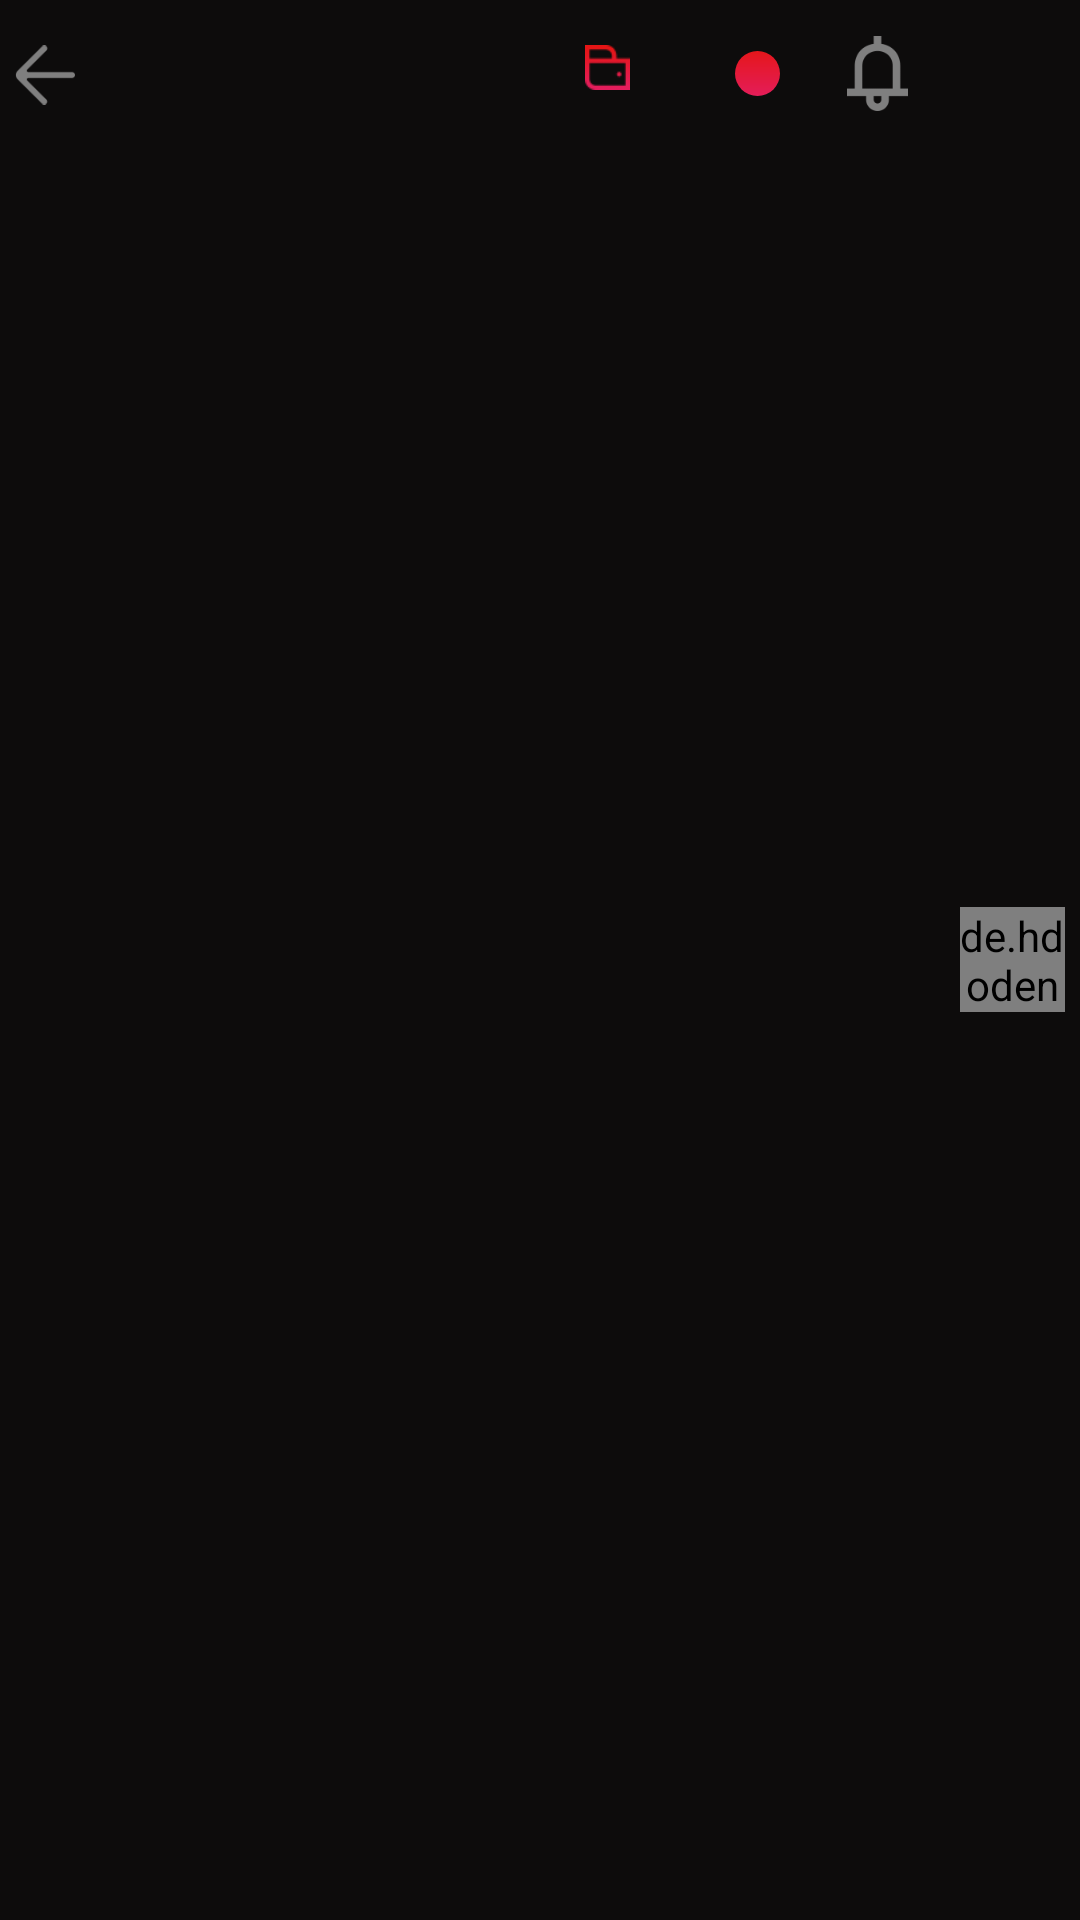

Named icons in this screenshot (1080 × 1920) and their centers, point (x, y):
back: point (45, 75)
notification notactive: point (877, 73)
wallet: point (607, 67)
